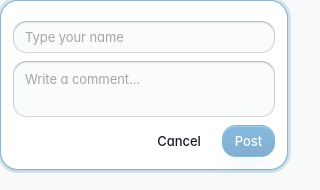
comment lane and review tab › asks for a name before the first comment when none is saved
Type "Why?" into the text box with test id "comment-draft-text" at (144, 89), box [13, 61, 275, 117]
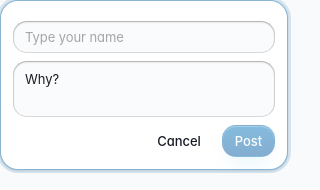
Expected: the button "Post" is disabled, [222, 125, 275, 157]
Type " Beril  Ertuğrul " into the field labelled "name" at (144, 37), box [13, 21, 275, 53]
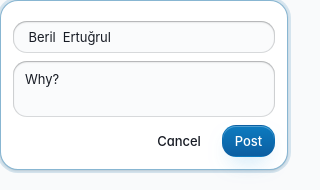
Click the button "Post" at (248, 141), box [222, 125, 275, 157]
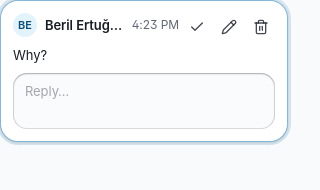
Now the text "Beril Ertuğrul" is shown, box [45, 15, 124, 35]
